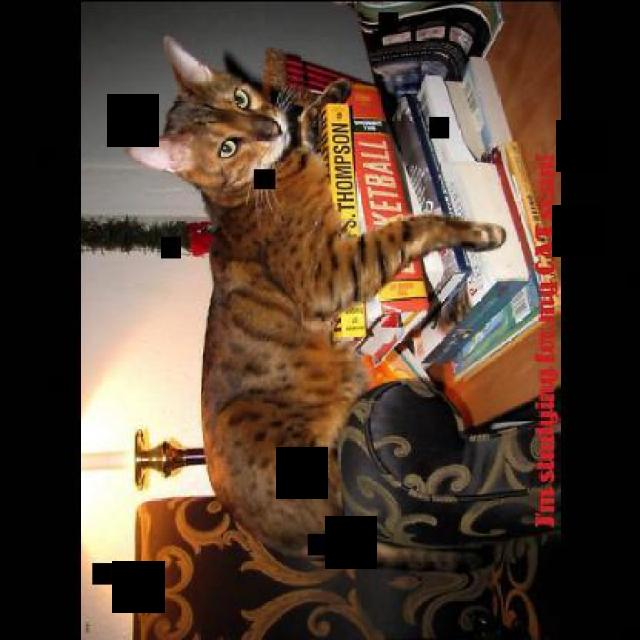unauthorized: (125, 34, 506, 569)
